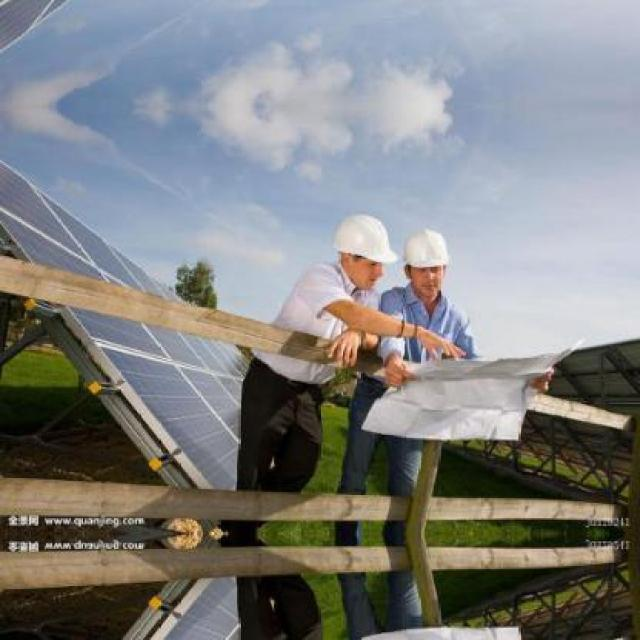helmet: (332, 207, 398, 291), (401, 221, 452, 302)
